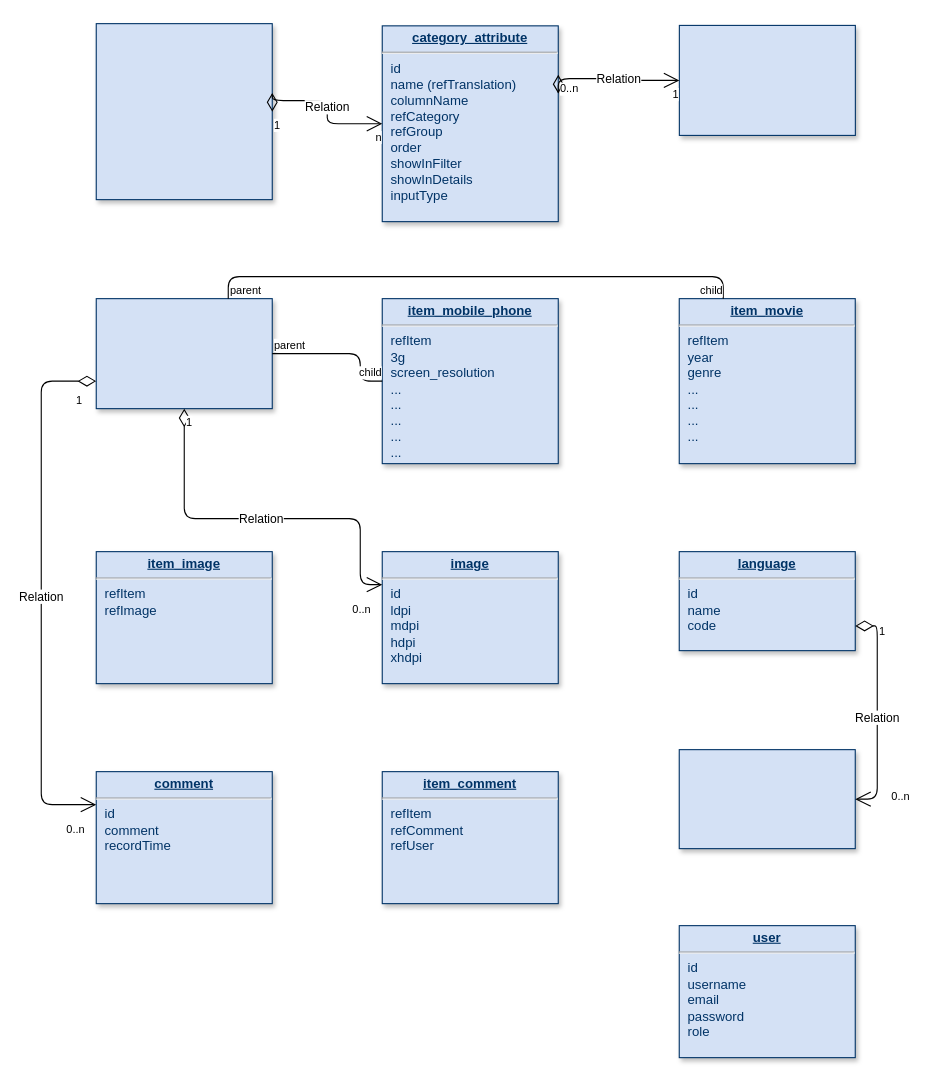
The diagram is 928 pixels wide and 1085 high, and some of its shapes have lost their labels. Each missing label, with the centre of its shape:
category id name (refTranslation) description createTime refParent: [185,112]
category_attribute_group id name (refTranslation) description (refTranslation): [768,81]
item id name (refTranslation) secondaryName (refTranslation): [185,354]
translation id refLanguage translation: [768,800]
